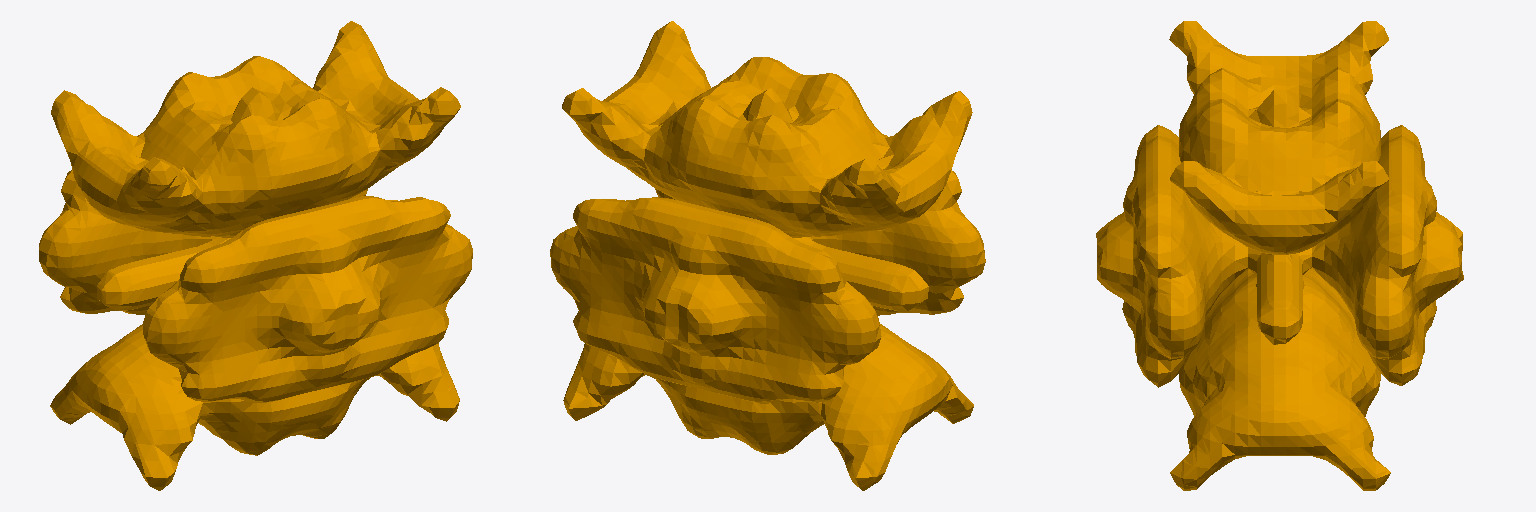
URDF robot description (P20_0):
<?xml version="1.0"?>
<robot name="P20_0">
  <link name="base_link">
    <inertial>
      <mass value="0.05291" />
      <origin xyz="0 0 0" />
      <inertia  ixx="0.0002" ixy="0.0"  ixz="0.0"  iyy="0.0002"  iyz="0.0" izz="0.0002" />
    </inertial>
    <visual>
      <geometry>
        <mesh filename="../../../meshes/egad/train/P20_0.obj" />
      </geometry>
    </visual>
    <collision>
      <geometry>
        <mesh filename="../../../meshes/egad/train/P20_0.obj" />
      </geometry>
    </collision>
  </link>
</robot>

--- Facts derived from the render (not from the file) ---
The picture shows the robot from 3 angles, left to right: view 1: azimuth 30°, elevation 25°; view 2: azimuth 150°, elevation 25°; view 3: azimuth 270°, elevation 25°; orthographic projection.
Robot: P20_0 — 1 links, 0 joints (none); root link base_link; default pose: all joints at 0.
Links seen in each view (by area): view 1: base_link; view 2: base_link; view 3: base_link.
Boxes of the visible links, bbox=[...] form: base_link: bbox=[39, 21, 472, 490]; base_link: bbox=[550, 21, 985, 490]; base_link: bbox=[1096, 21, 1463, 490].
Size in the robot's own frame: 0.0623 by 0.0601 by 0.0613 metres.
1 mesh visuals loaded from 1 distinct referenced files (1 OBJ).